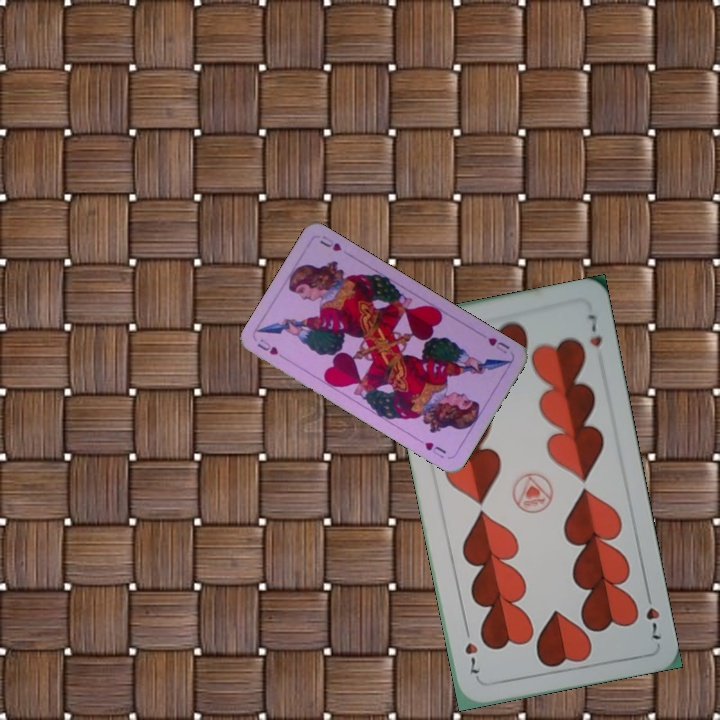H7: (642, 586, 664, 642)
HU: (253, 335, 290, 363), (483, 333, 513, 357)
